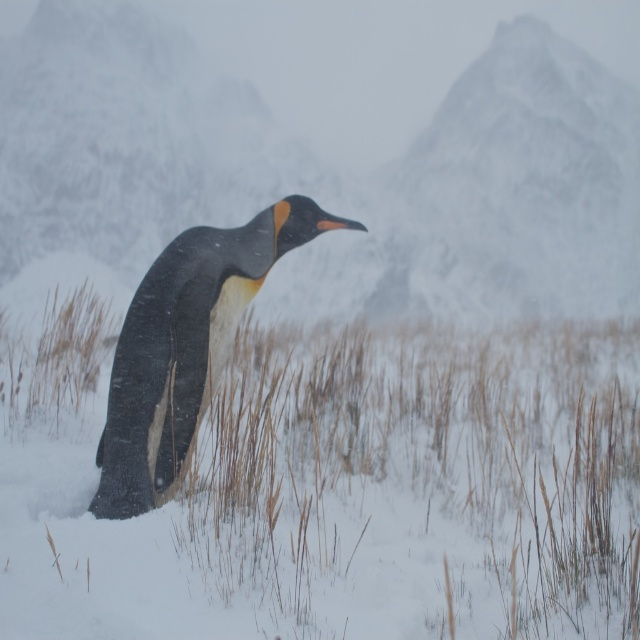Penguin: (85, 190, 385, 539)
